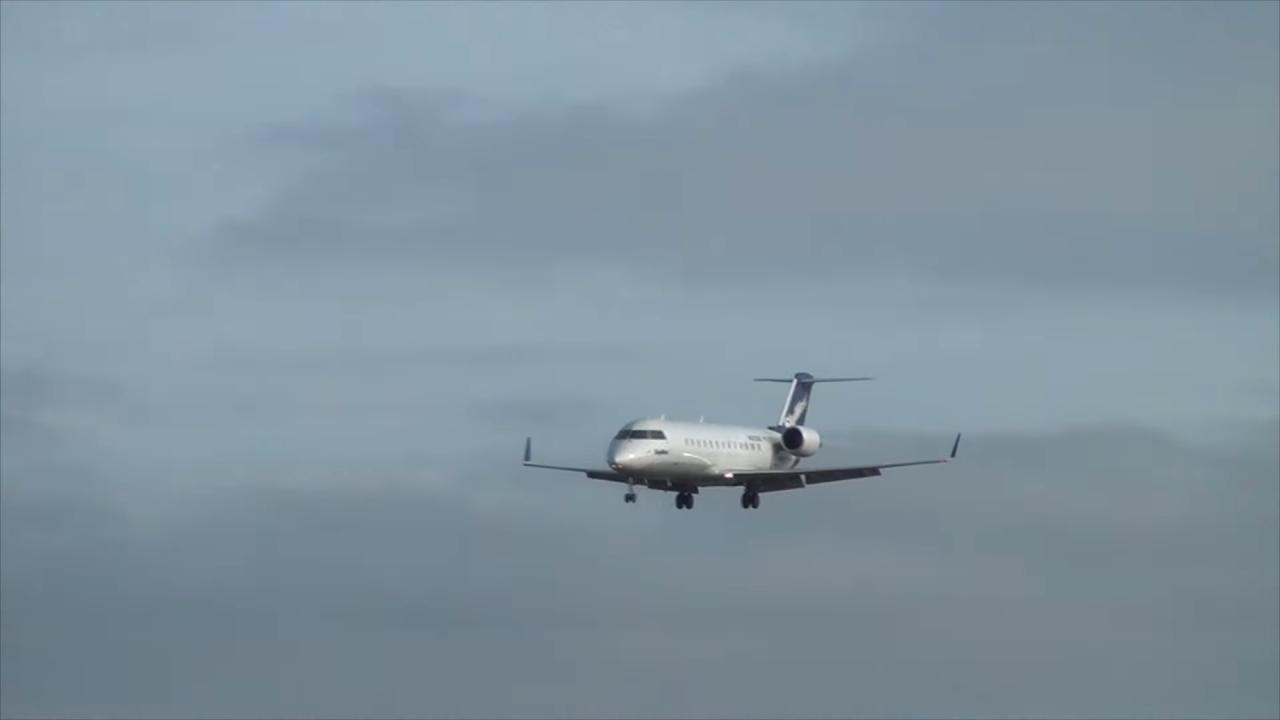Airplane: (510, 365, 975, 516)
